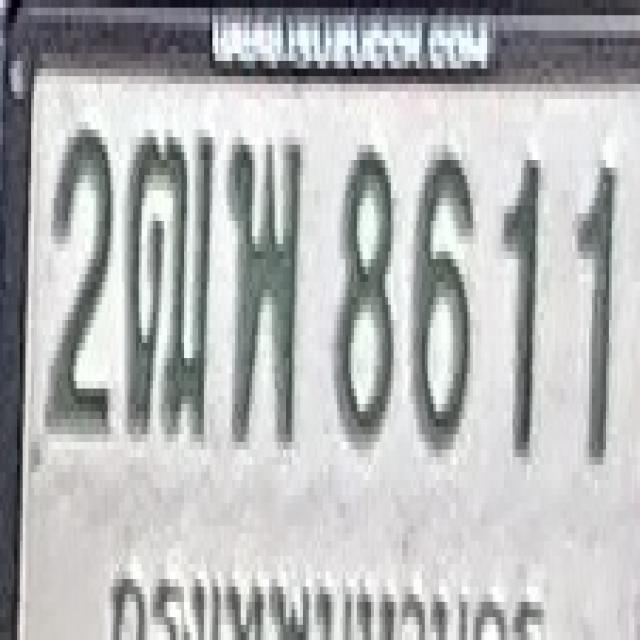-: (125, 126, 212, 438), (227, 129, 303, 442)
1: (501, 152, 541, 458), (575, 156, 614, 461)
2: (47, 126, 112, 430)
6: (411, 144, 473, 450)
8: (334, 141, 394, 446)
